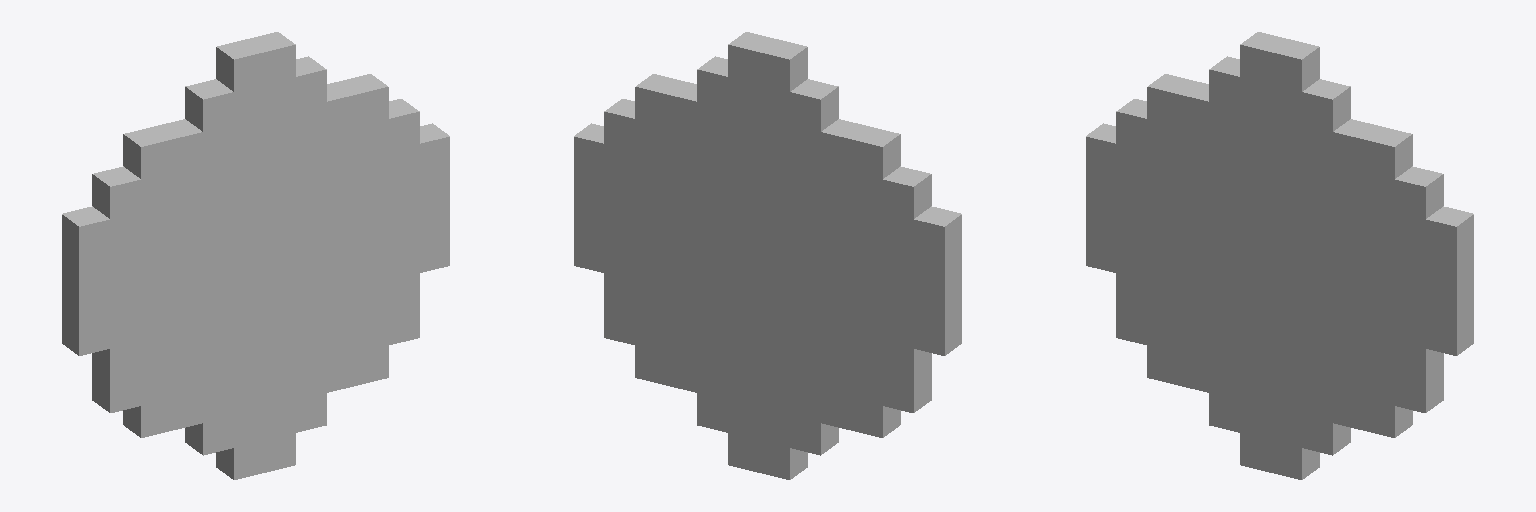
File: door-0.obj
3 views of the same model, side by side, from view 1: azimuth 30°, elevation 25°; view 2: azimuth 150°, elevation 25°; view 3: azimuth 330°, elevation 25° (orthographic).
Parts seen in each view (by area): view 1: object 1; view 2: object 1; view 3: object 1.
Part boxes in pixels (x1,y1,x2,y2): object 1: (62,32,449,479); object 1: (574,32,961,479); object 1: (1086,32,1473,479).
Size of the model in its own units: 1.2 by 1.3 by 0.1.